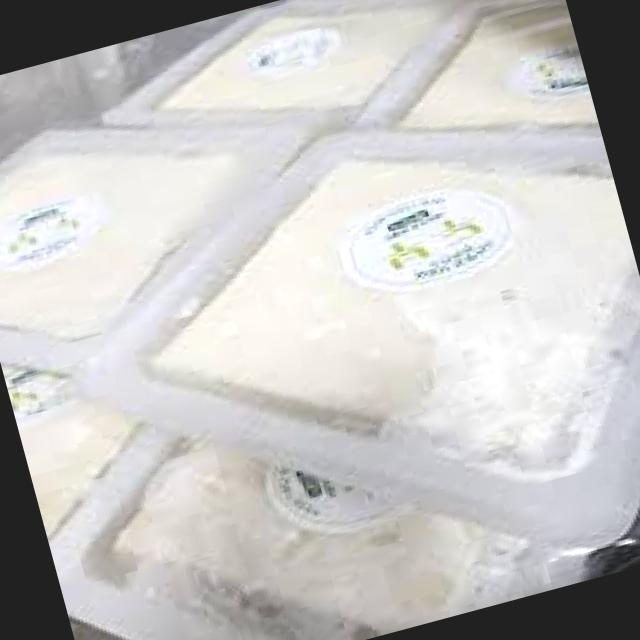tof: (130, 93, 640, 581)
